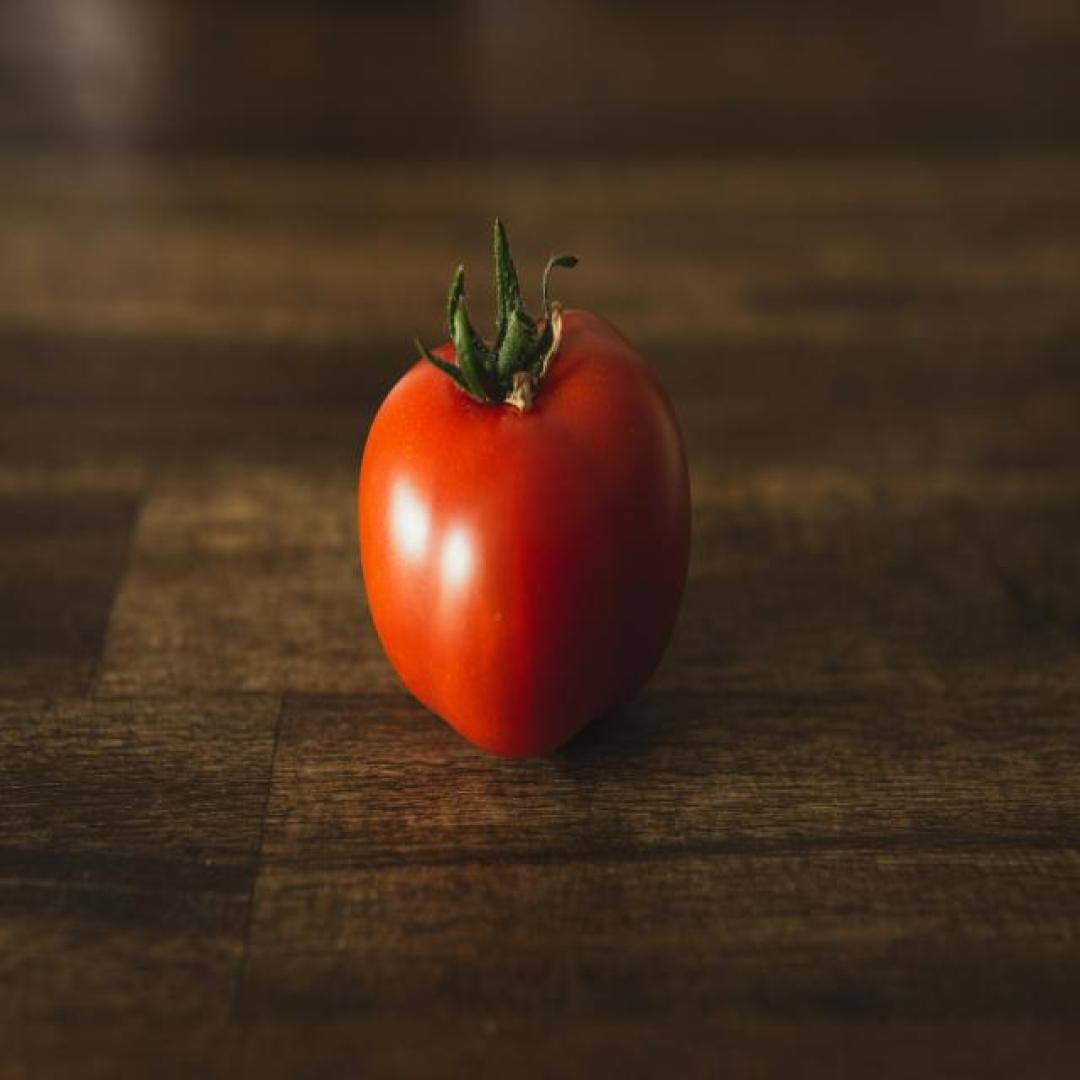matang: (356, 216, 694, 763)
